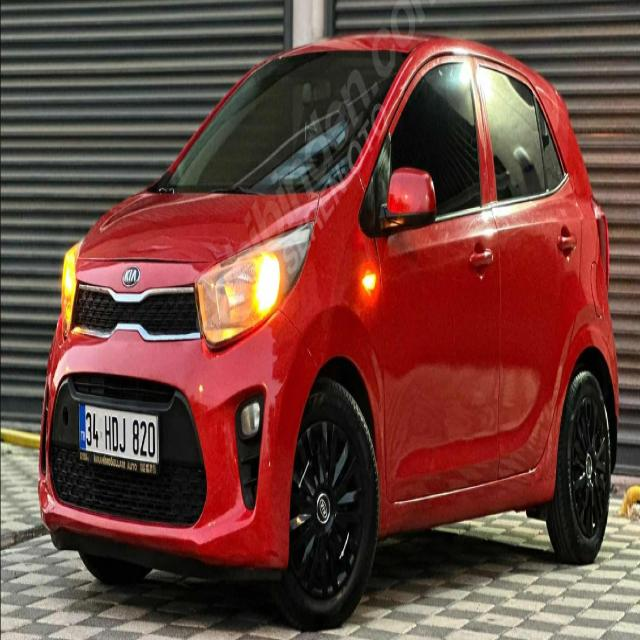kia: (121, 262, 142, 290)
